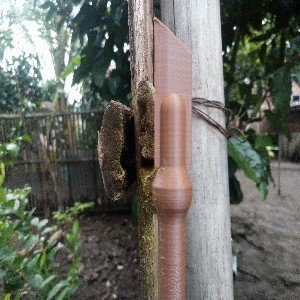cutter: (150, 14, 194, 300)
